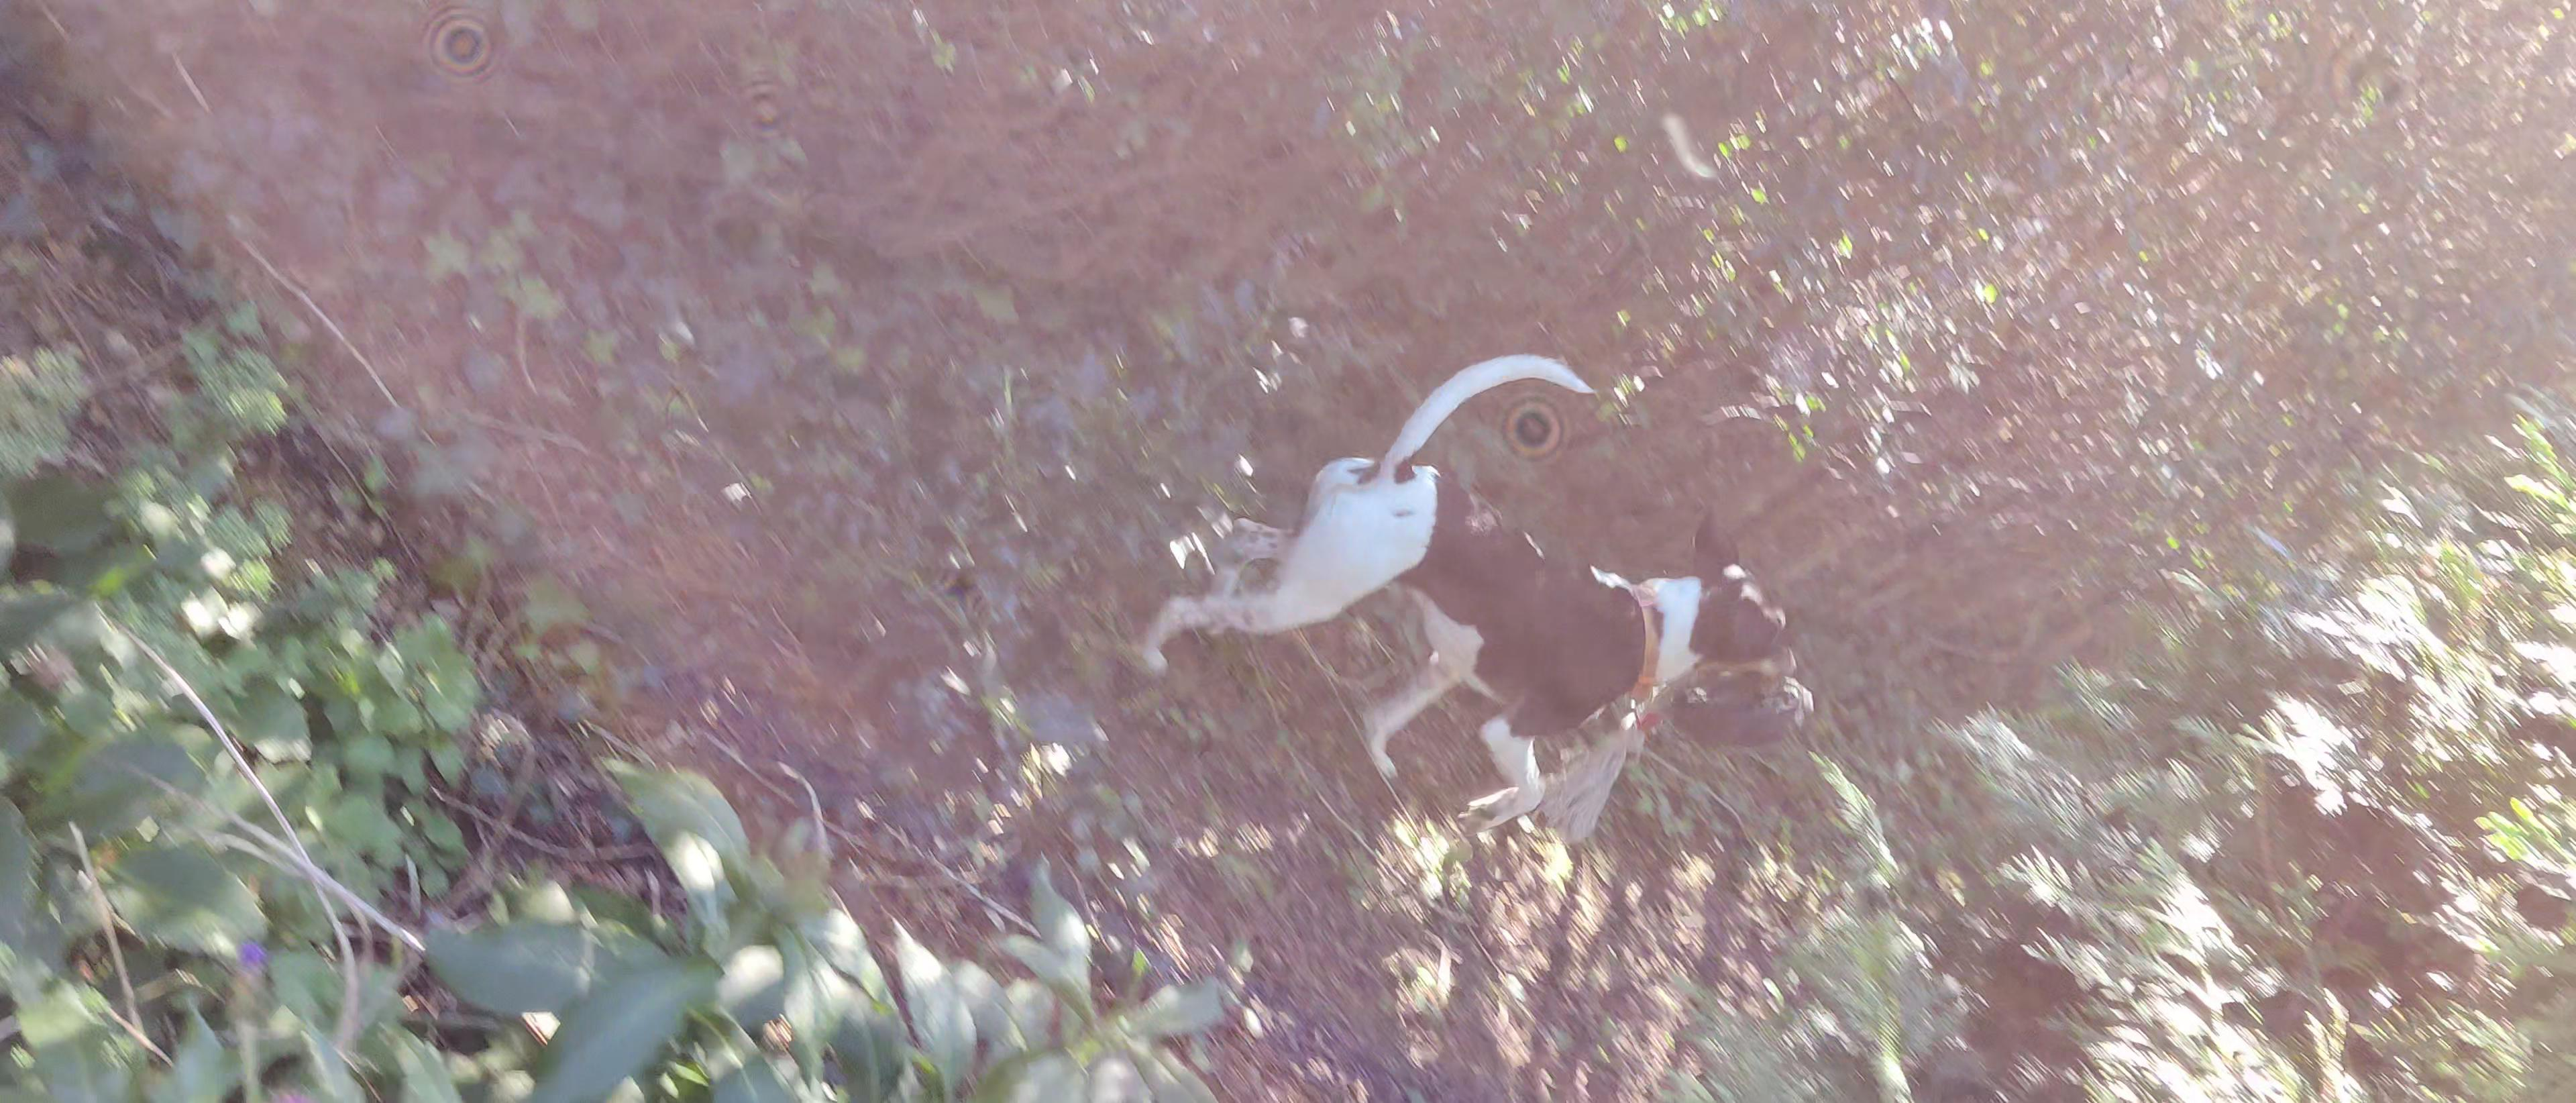Dog: (1127, 350, 1801, 838)
